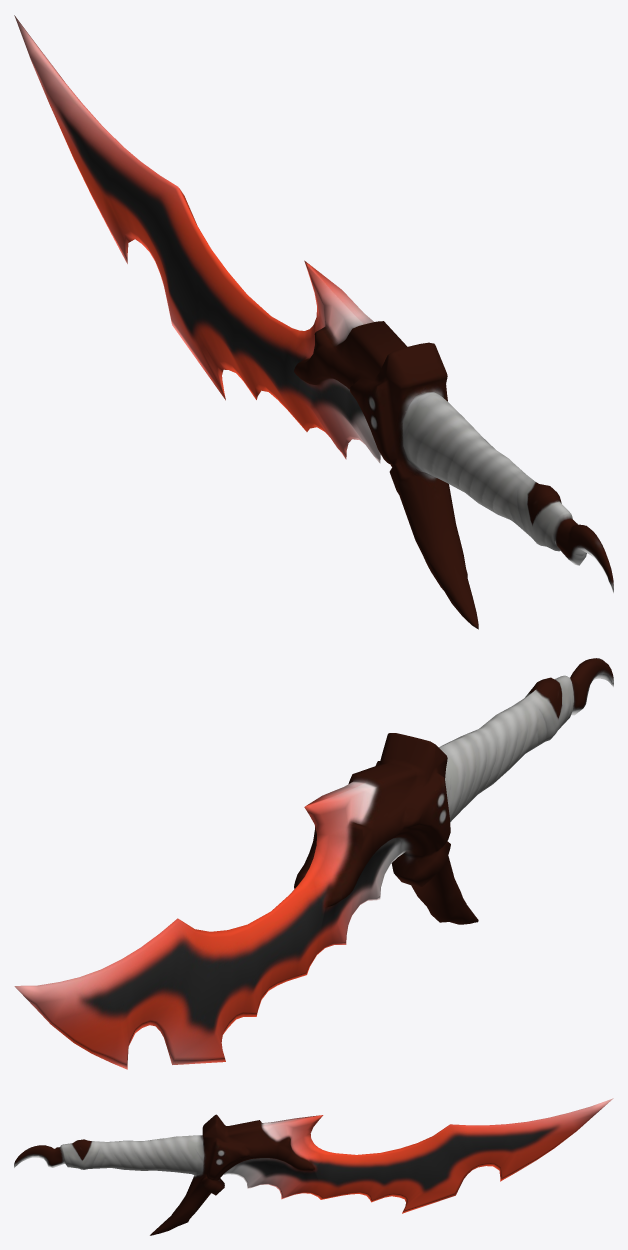
The model's file is knight.glb.
3 views of the same model, one above another, from view 1: azimuth 30°, elevation 25°; view 2: azimuth 150°, elevation 25°; view 3: azimuth 270°, elevation 25° (orthographic). The views are drawn at different scales.
Parts seen in each view (by area): view 1: Knight Salyer; view 2: Knight Salyer; view 3: Knight Salyer.
Boxes of the visible parts, x1,y1,x2,y2 form: Knight Salyer: (14,15,613,629); Knight Salyer: (14,658,613,1069); Knight Salyer: (14,1098,613,1235).
Bounding box in the file's own units: 0.0463 × 0.1755 × 0.6933.
Materials: 1 (1 with a texture image).
